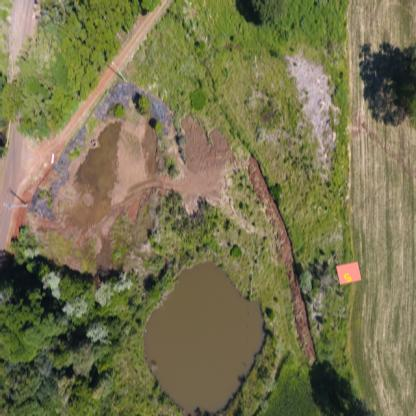S: (343, 271, 354, 285)
rectangle: (335, 259, 363, 287)
